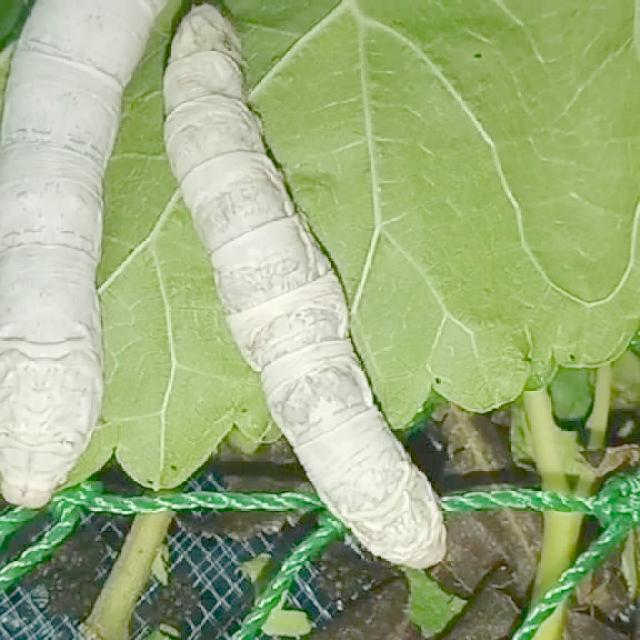Grasserie: (144, 14, 516, 600)
